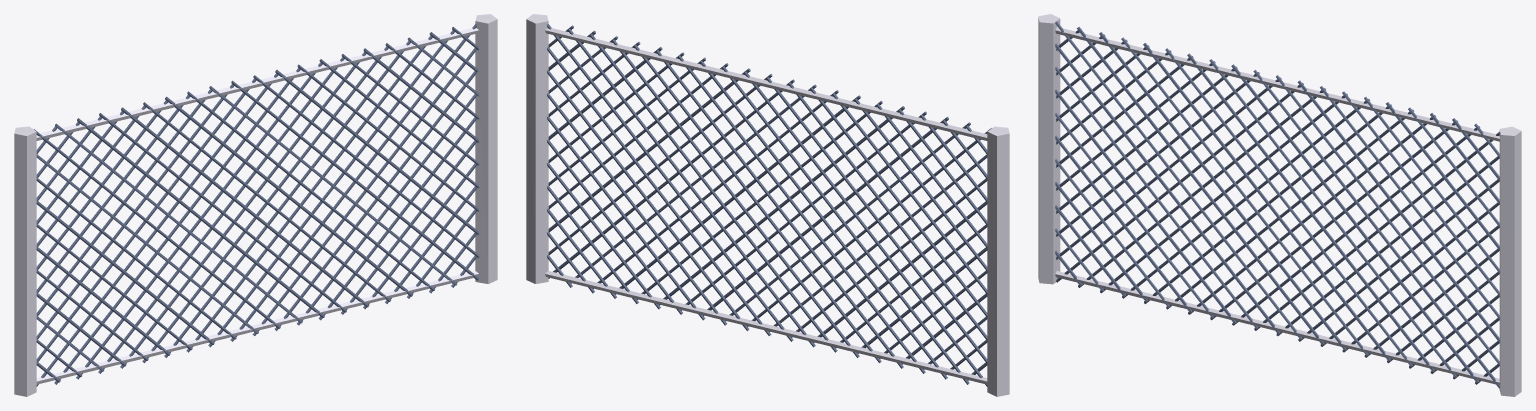
Rendered from fence.glb.
3 views of the same model, side by side, from view 1: azimuth 30°, elevation 25°; view 2: azimuth 150°, elevation 25°; view 3: azimuth 330°, elevation 25° (orthographic).
Visible parts, largest first — view 1: fence; view 2: fence; view 3: fence.
Boxes of the visible parts, left/top/right/bottom form: fence: left=14, top=14, right=497, bottom=396; fence: left=526, top=14, right=1009, bottom=396; fence: left=1038, top=14, right=1521, bottom=396.
Size of the model in its own units: 14.54 by 7.57 by 0.5967.
